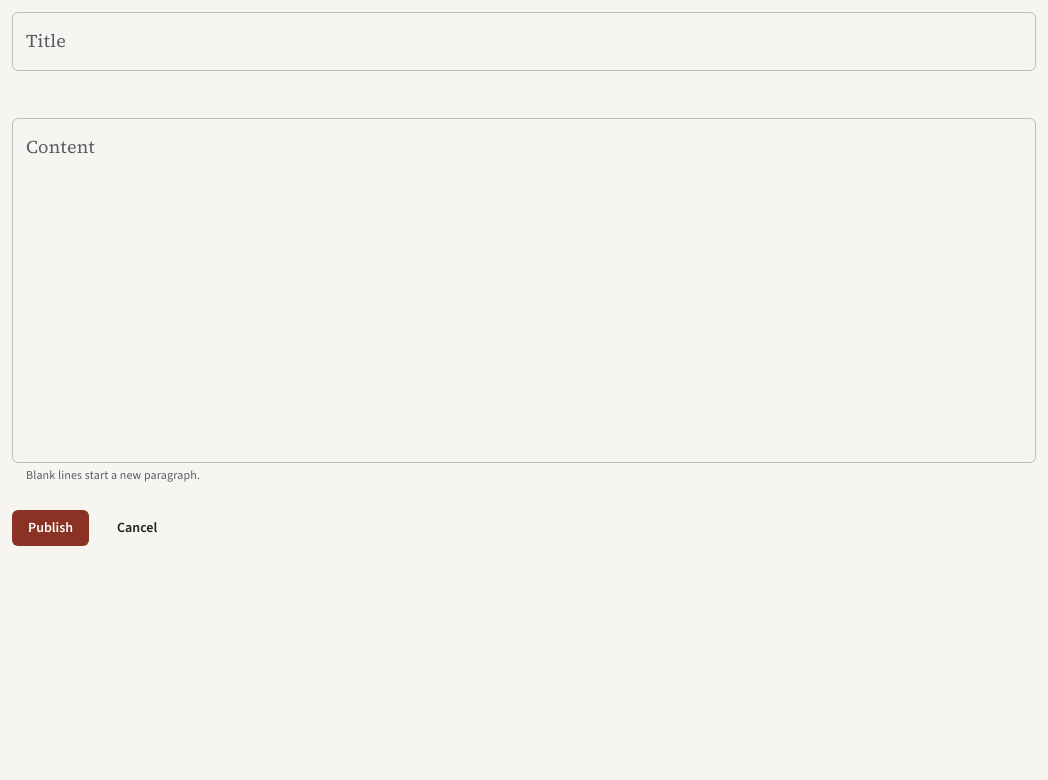
Test: <PostForm /> › rejects a body that is too short to be a post
Type "A title" into the field labelled "Title" at (524, 41), box [12,12,1036,71]
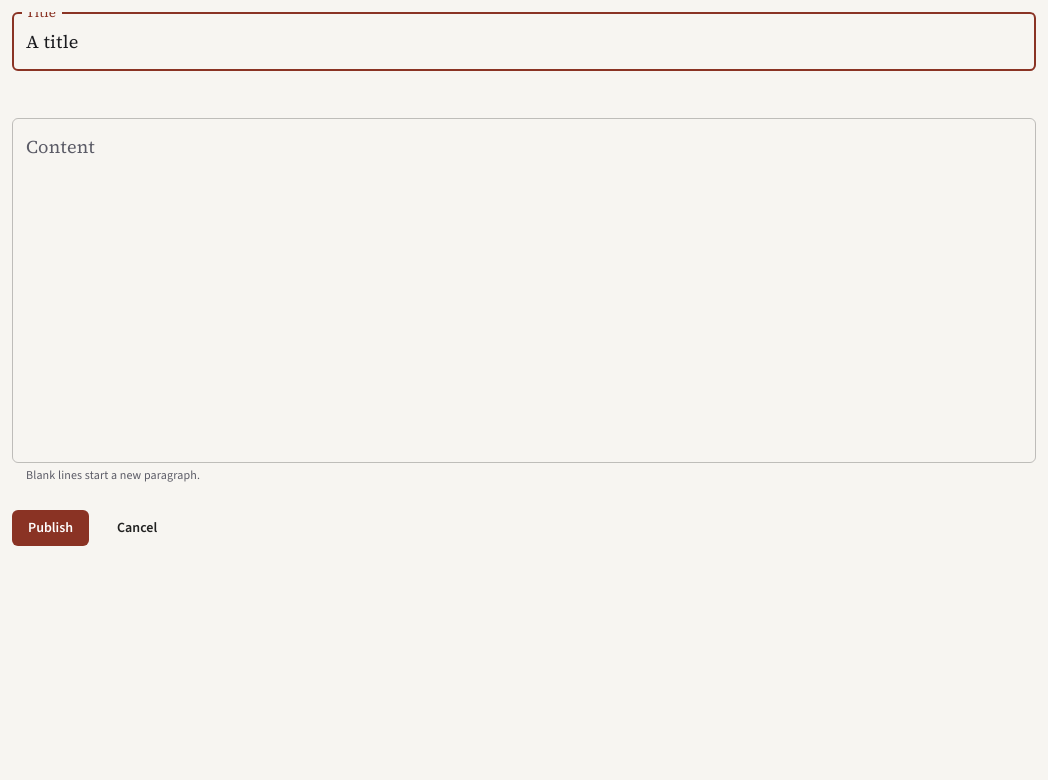
Type "short" into the text box labelled "Content" at (524, 290), box [26,134,1022,446]
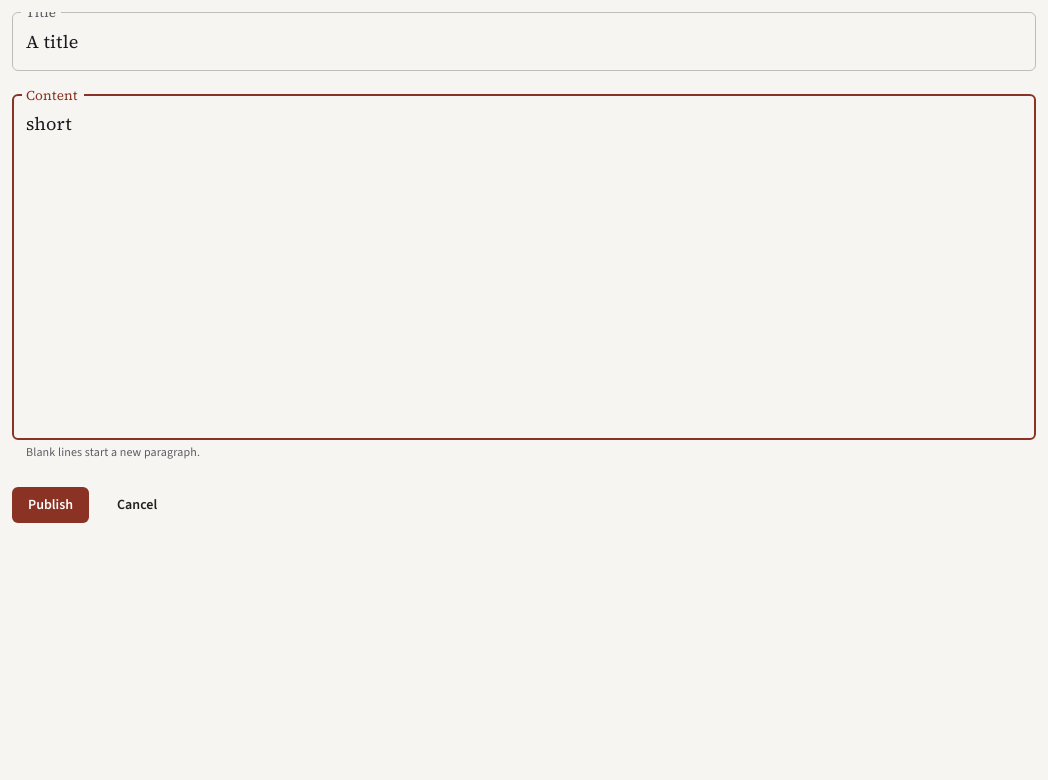
Click the button "Publish" at (51, 505), box [12,487,89,523]
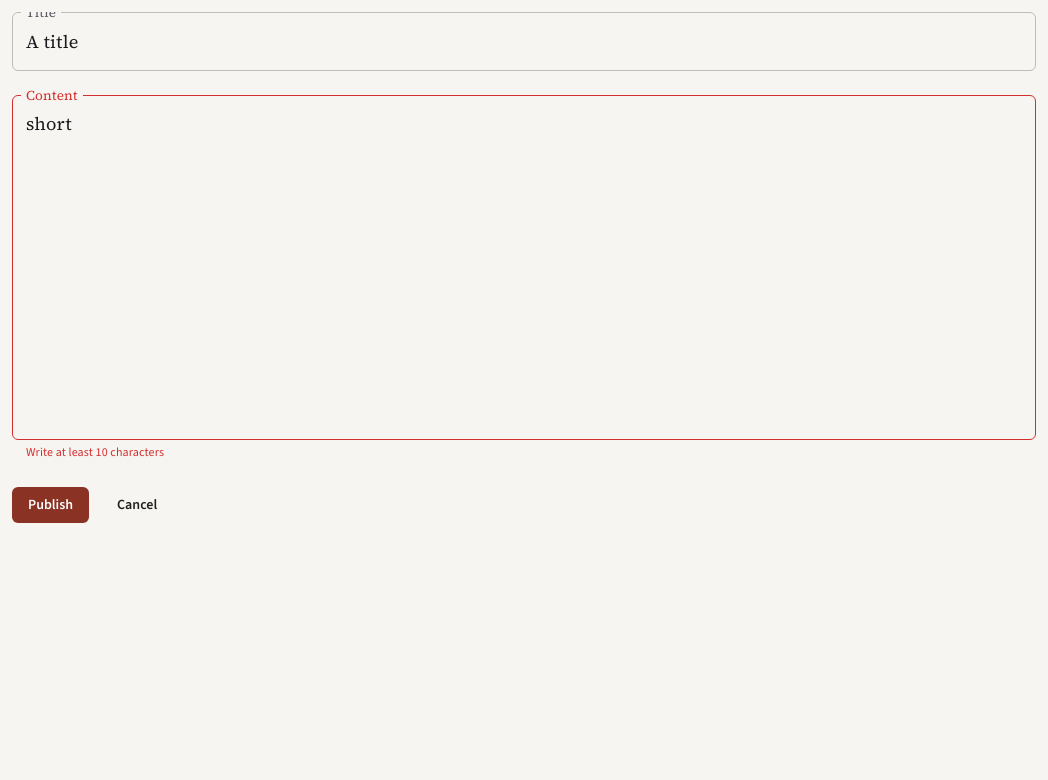
Expected: the text "Write at least 10 characters" is shown, [26,444,164,460]
